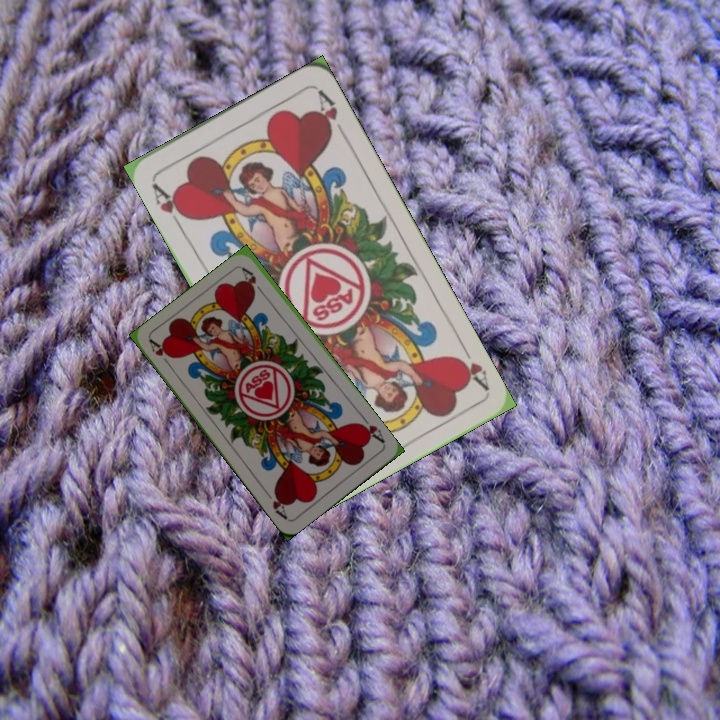HA: (449, 338, 492, 393), (148, 179, 190, 231), (354, 412, 388, 446), (146, 336, 175, 371)
